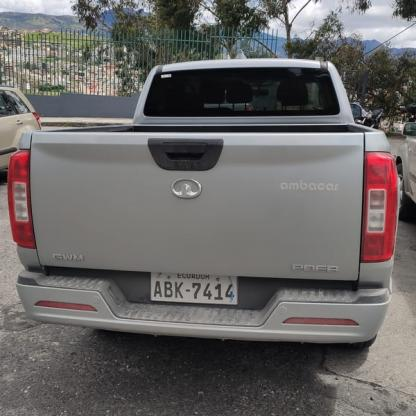Placa: (148, 266, 239, 310)
